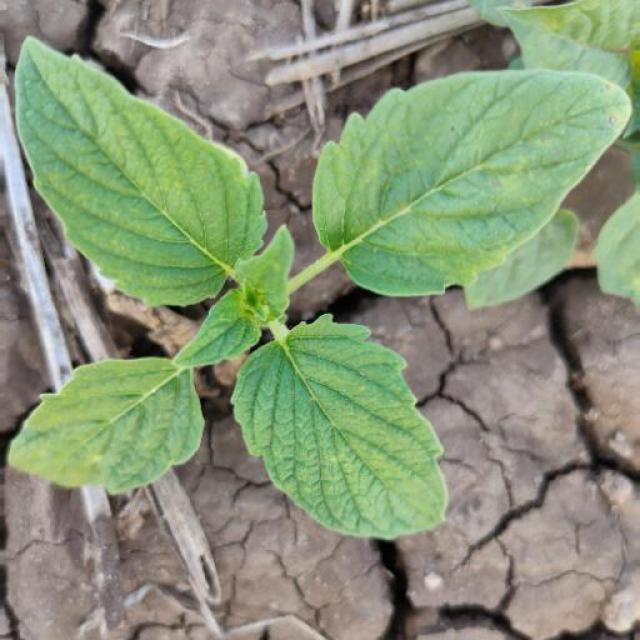crop: (11, 30, 640, 542)
